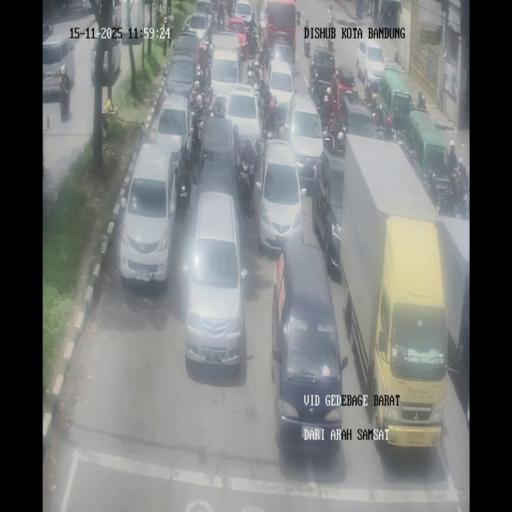car: (271, 240, 343, 451), (183, 191, 248, 371), (119, 143, 177, 286), (283, 94, 324, 184), (152, 94, 193, 180), (316, 152, 344, 275), (337, 92, 379, 148), (42, 33, 76, 99), (163, 52, 199, 105), (266, 60, 296, 120), (210, 32, 243, 86), (89, 31, 121, 86), (308, 46, 336, 99), (356, 38, 385, 88), (184, 11, 210, 44), (233, 0, 254, 32), (41, 23, 54, 43)
motorcycle: (236, 160, 256, 215), (189, 112, 205, 171), (176, 157, 192, 214), (398, 130, 418, 166), (250, 84, 264, 128), (424, 170, 439, 208), (438, 190, 458, 218), (262, 116, 282, 142), (374, 119, 394, 142), (202, 88, 216, 120), (332, 124, 346, 155), (456, 188, 470, 219), (411, 94, 431, 115), (194, 61, 207, 93), (247, 25, 258, 60), (258, 32, 268, 68), (164, 14, 174, 50), (321, 123, 333, 150), (214, 95, 228, 118), (326, 4, 336, 35), (364, 84, 376, 106), (190, 83, 200, 108), (303, 24, 310, 58), (390, 128, 403, 145), (238, 47, 246, 74), (101, 112, 109, 138), (247, 67, 256, 90), (216, 9, 225, 31), (224, 0, 234, 18), (362, 0, 370, 18), (259, 4, 266, 24), (378, 1, 384, 24), (212, 0, 218, 12), (292, 48, 296, 65)
truck: (337, 140, 457, 445), (439, 221, 470, 431), (377, 66, 414, 130), (265, 0, 298, 61), (118, 1, 144, 44), (332, 65, 357, 105)
